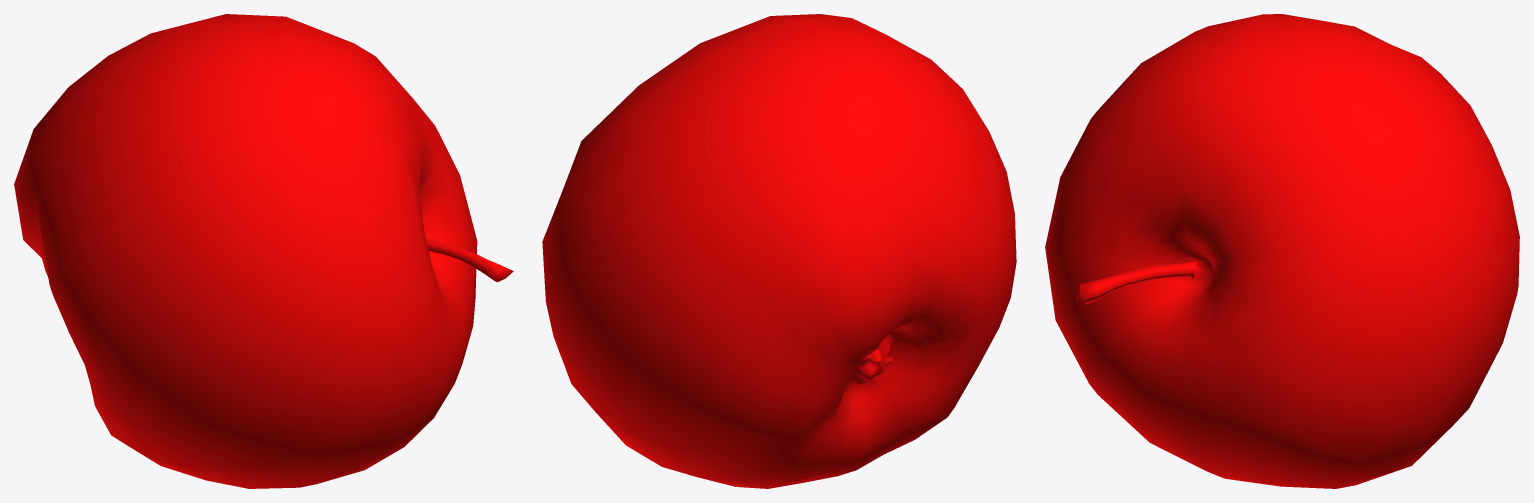
The model's file is apple3.FBX.
3 renders of one model, left to right at view 1: azimuth 30°, elevation 25°; view 2: azimuth 150°, elevation 25°; view 3: azimuth 270°, elevation 25°, orthographic. The views are drawn at different scales.
Parts seen in each view (by area): view 1: apple3; view 2: apple3; view 3: apple3.
Part boxes in pixels (x1=…): apple3: x1=14, y1=14, x2=513, y2=488; apple3: x1=542, y1=14, x2=1016, y2=488; apple3: x1=1045, y1=14, x2=1519, y2=488.
Size of the model in its own units: 61.7 by 61.72 by 63.16.
